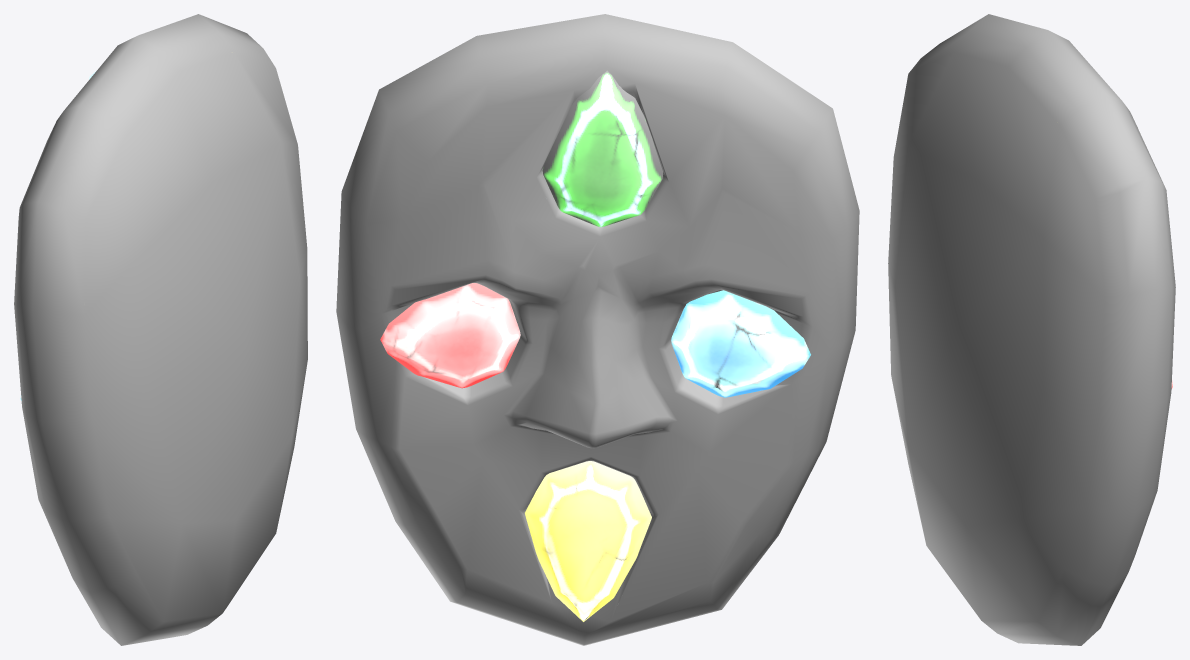
Rendered from sendingStone.fbx.
The picture shows the model from 3 angles, left to right: view 1: azimuth 30°, elevation 25°; view 2: azimuth 150°, elevation 25°; view 3: azimuth 270°, elevation 25°; orthographic projection. The views are drawn at different scales.
Parts seen in each view (by area): view 1: 4.001; view 2: 4.001, 4.006, 4.004, 4.005, 4.003; view 3: 4.001.
Part boxes in pixels (x1,y1,x2,y2): 4.001: [14, 14, 307, 645]; 4.001: [336, 14, 859, 645]; 4.006: [525, 461, 651, 621]; 4.004: [542, 70, 663, 227]; 4.005: [671, 290, 810, 397]; 4.003: [380, 283, 520, 388]; 4.001: [888, 14, 1175, 645].
Size of the model in its own units: 8.54 by 12.61 by 19.53.
